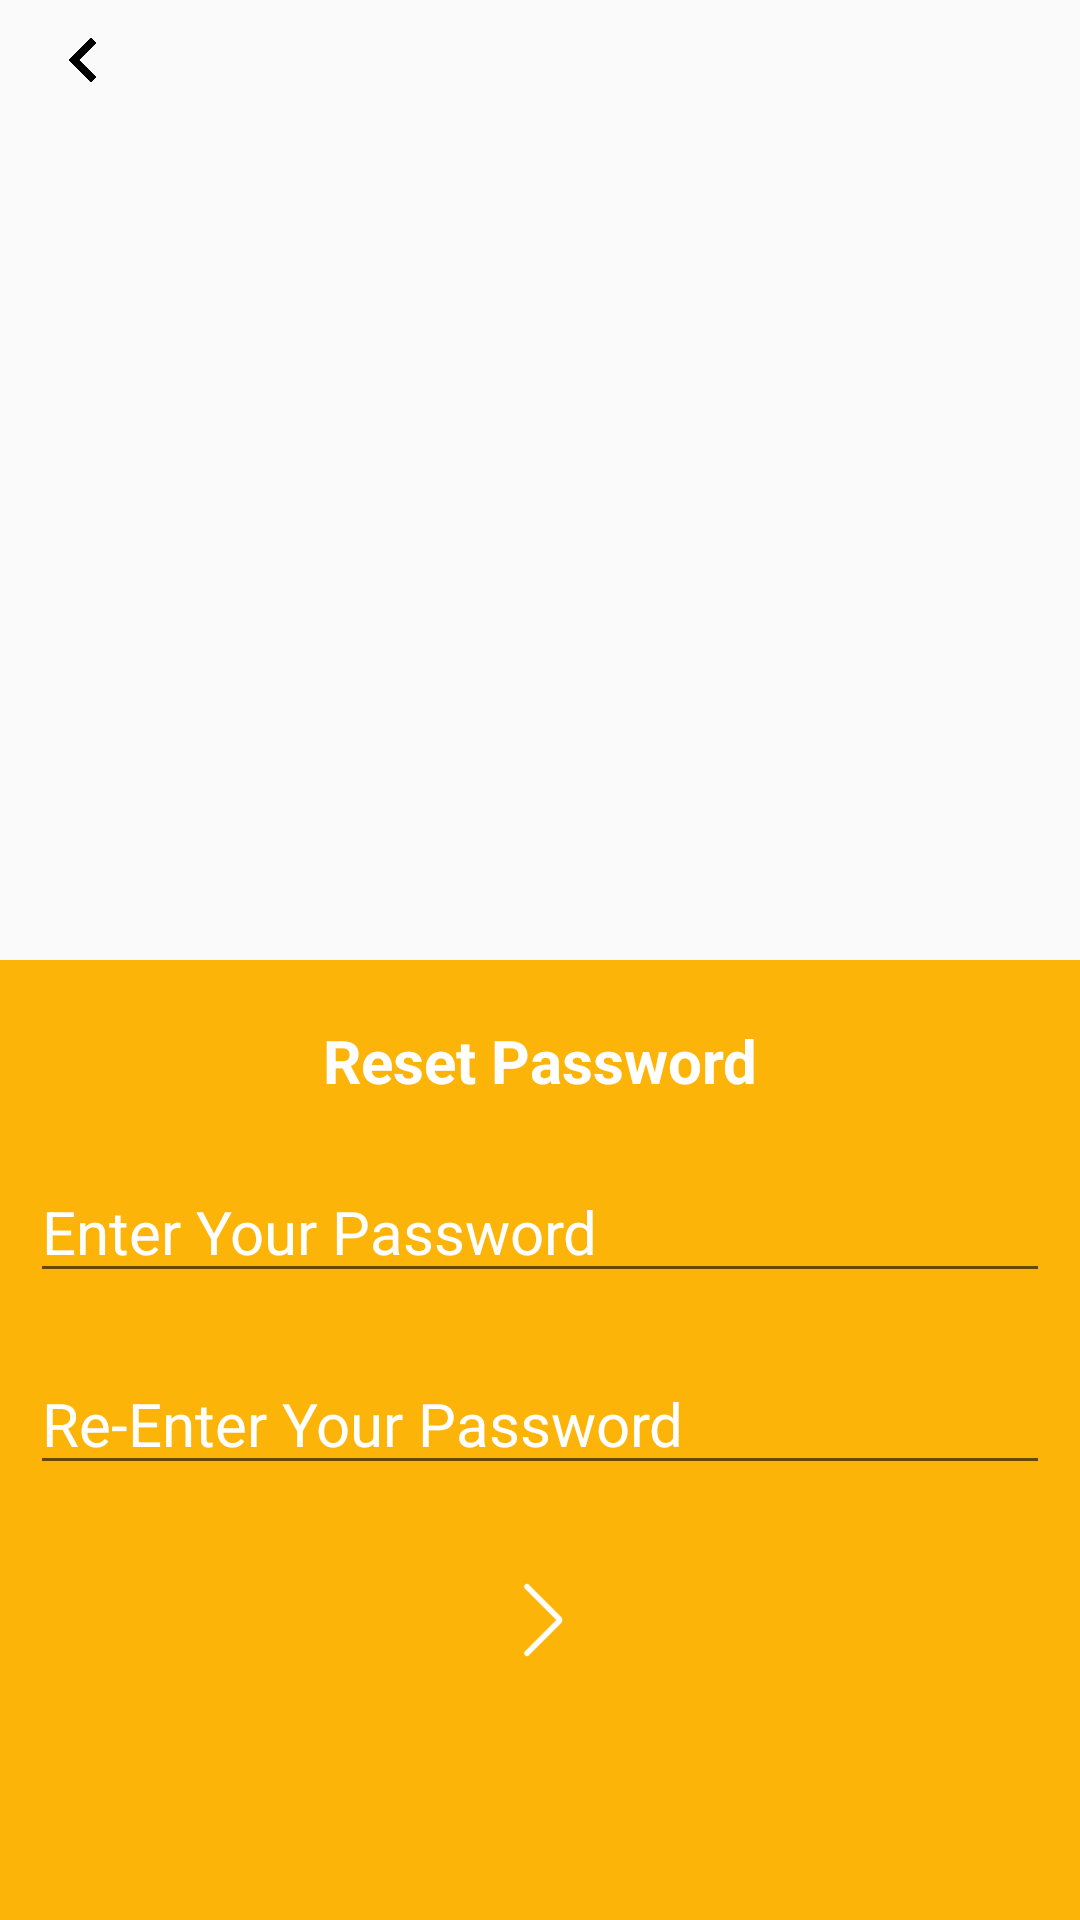

Screen size 1080 × 1920. Icon name, then its center in pixels as (x=x, y=y):
back button: (x=82, y=60)
right arrow: (x=543, y=1620)
